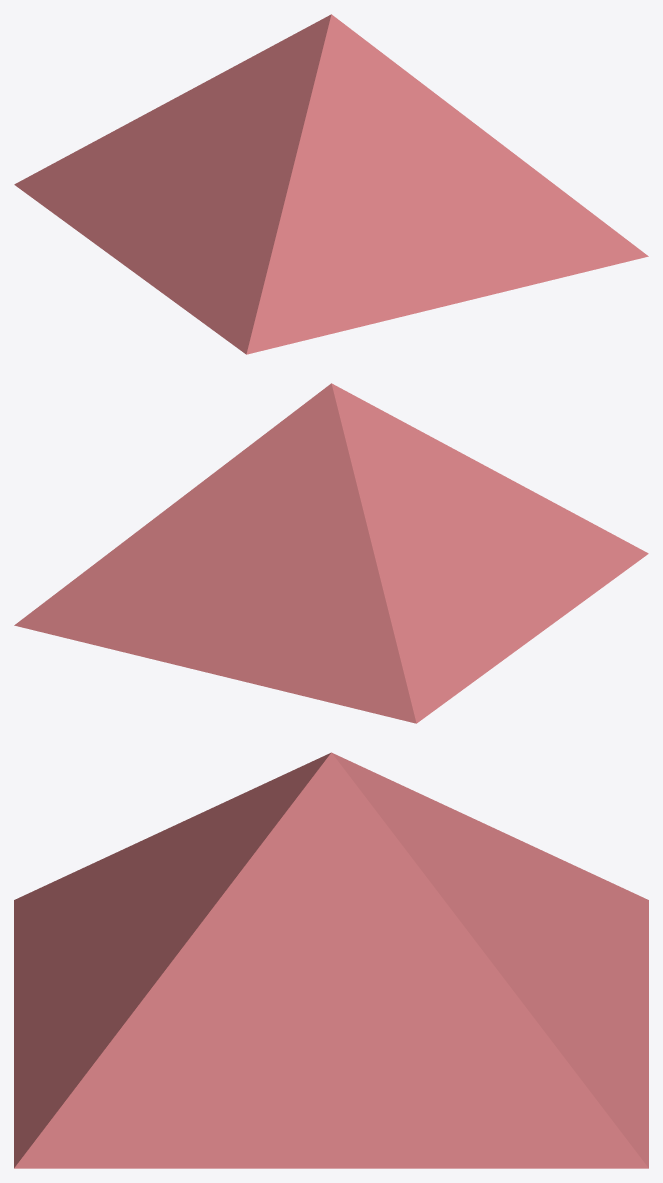
The model's file is roof.gltf.
3 views of the same model, one above another, from view 1: azimuth 30°, elevation 25°; view 2: azimuth 150°, elevation 25°; view 3: azimuth 270°, elevation 25° (orthographic). The views are drawn at different scales.
Bounding box in the file's own units: 2 × 0.9795 × 2.
